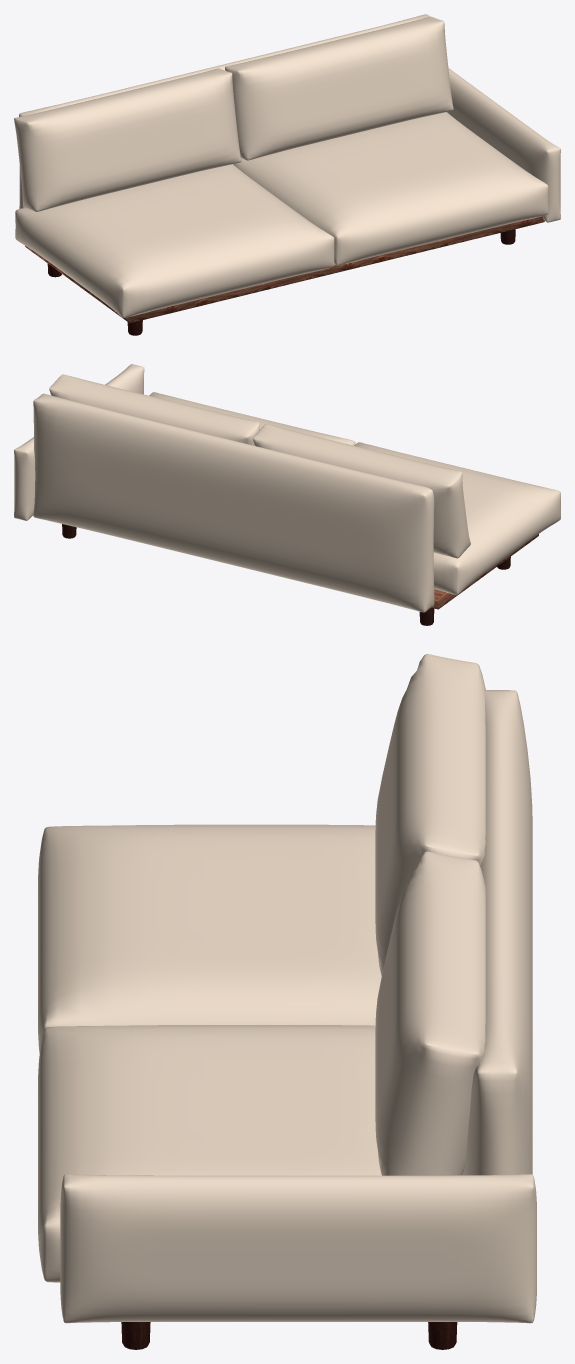
File: Sofa-AR.glb
3 renders of one model, top to bottom at view 1: azimuth 30°, elevation 25°; view 2: azimuth 150°, elevation 25°; view 3: azimuth 270°, elevation 25°, orthographic. The views are drawn at different scales.
Visible parts, largest first — view 1: Kissen Groß.001, Kissen Groß, Kissen Mittel, Kissen Mittel.001, Seitenplatte, Bodenplatte, Hinten Platte; view 2: Hinten Platte, Kissen Groß.001, Kissen Mittel, Kissen Mittel.001, Seitenplatte, Kissen Groß, Bodenplatte; view 3: Seitenplatte, Kissen Groß.001, Kissen Groß, Kissen Mittel.001, Hinten Platte, Kissen Mittel.
Boxes of the visible parts, box(x1,y1,x2,y2) form: Kissen Groß.001: box(15, 164, 334, 318); Kissen Groß: box(233, 112, 548, 265); Kissen Mittel: box(14, 68, 241, 211); Kissen Mittel.001: box(225, 16, 453, 160); Seitenplatte: box(447, 68, 560, 222); Bodenplatte: box(25, 216, 544, 323); Hinten Platte: box(19, 14, 429, 208); Hinten Platte: box(33, 393, 434, 612); Kissen Groß.001: box(354, 442, 560, 594); Kissen Mittel: box(252, 424, 470, 558); Kissen Mittel.001: box(49, 374, 259, 445); Seitenplatte: box(14, 364, 144, 520); Kissen Groß: box(149, 392, 355, 445); Bodenplatte: box(431, 534, 538, 609); Seitenplatte: box(60, 1174, 536, 1323); Kissen Groß.001: box(38, 824, 381, 1052); Kissen Groß: box(38, 1025, 381, 1282); Kissen Mittel.001: box(375, 851, 485, 1175); Hinten Platte: box(462, 690, 532, 1175); Kissen Mittel: box(375, 654, 485, 975).
Bounding box in the file's own units: 2.12 × 0.7308 × 1.06.
5 materials, 2 textured.
